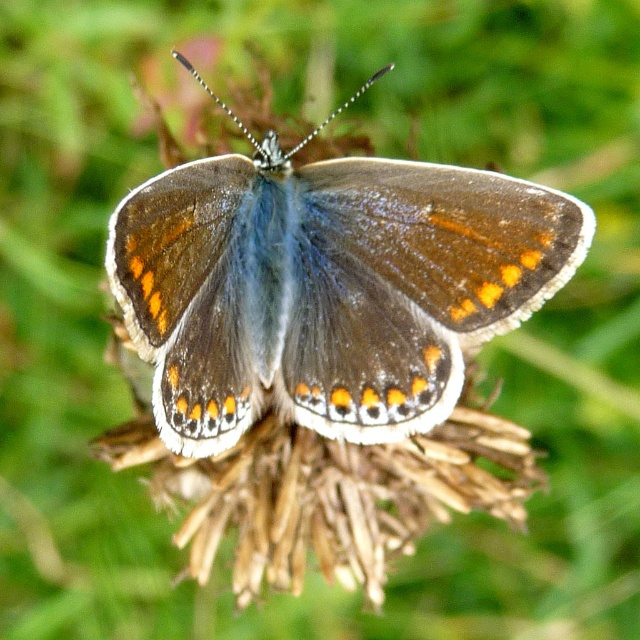Butterfly: (94, 16, 598, 496)
